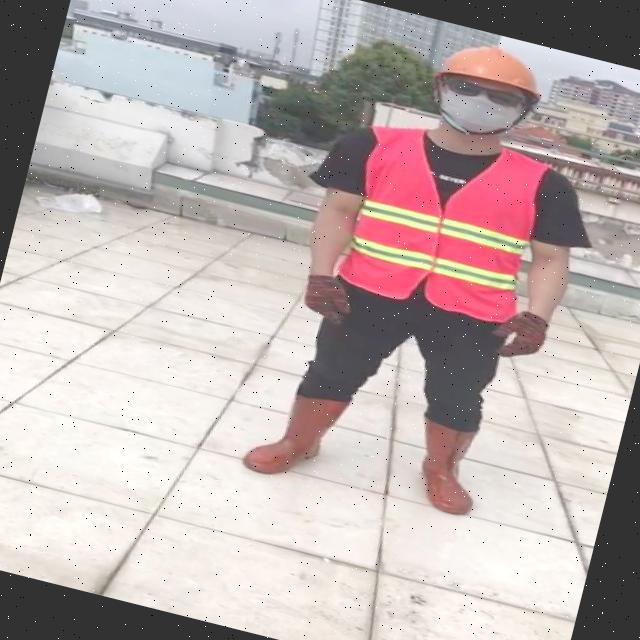boots: (238, 380, 346, 488), (398, 413, 490, 517)
